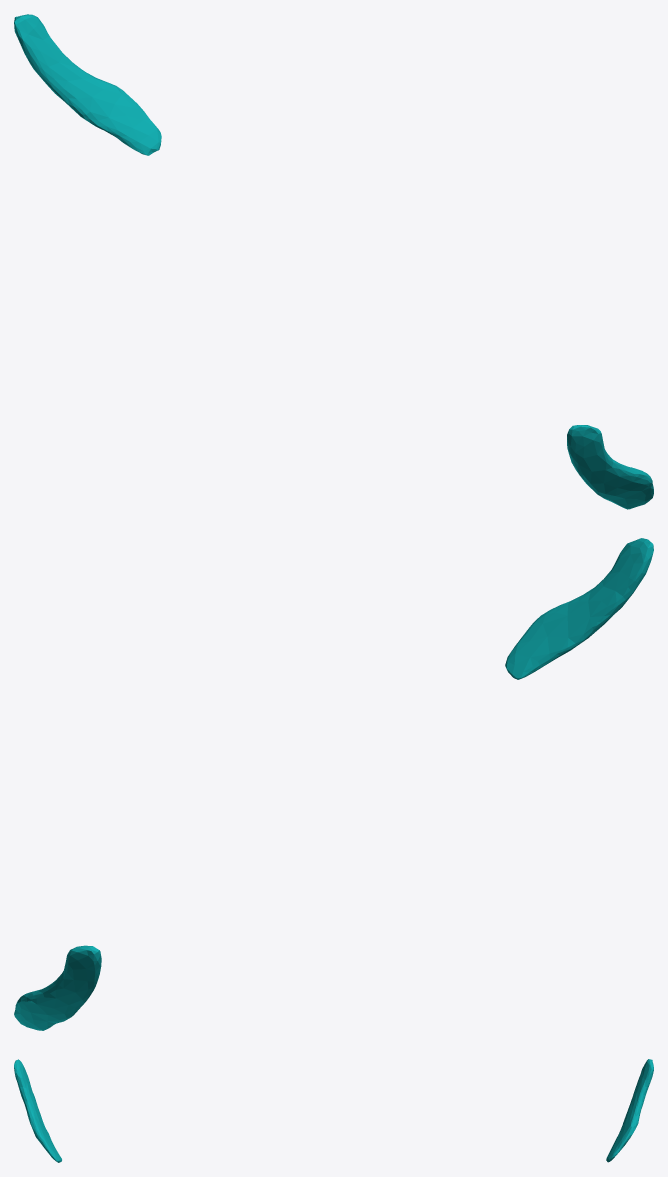
3 renders of one model, top to bottom at view 1: azimuth 30°, elevation 25°; view 2: azimuth 150°, elevation 25°; view 3: azimuth 270°, elevation 25°, orthographic. The views are drawn at different scales.
Parts seen in each view (by area): view 1: 527.obj; view 2: 527.obj; view 3: 527.obj.
Boxes of the visible parts, box(x1,y1,x2,y2) form: 527.obj: box(14, 14, 653, 509); 527.obj: box(14, 538, 653, 1030); 527.obj: box(14, 1059, 653, 1162).
Bounding box in the file's own units: 1166 × 1288 × 9781.
